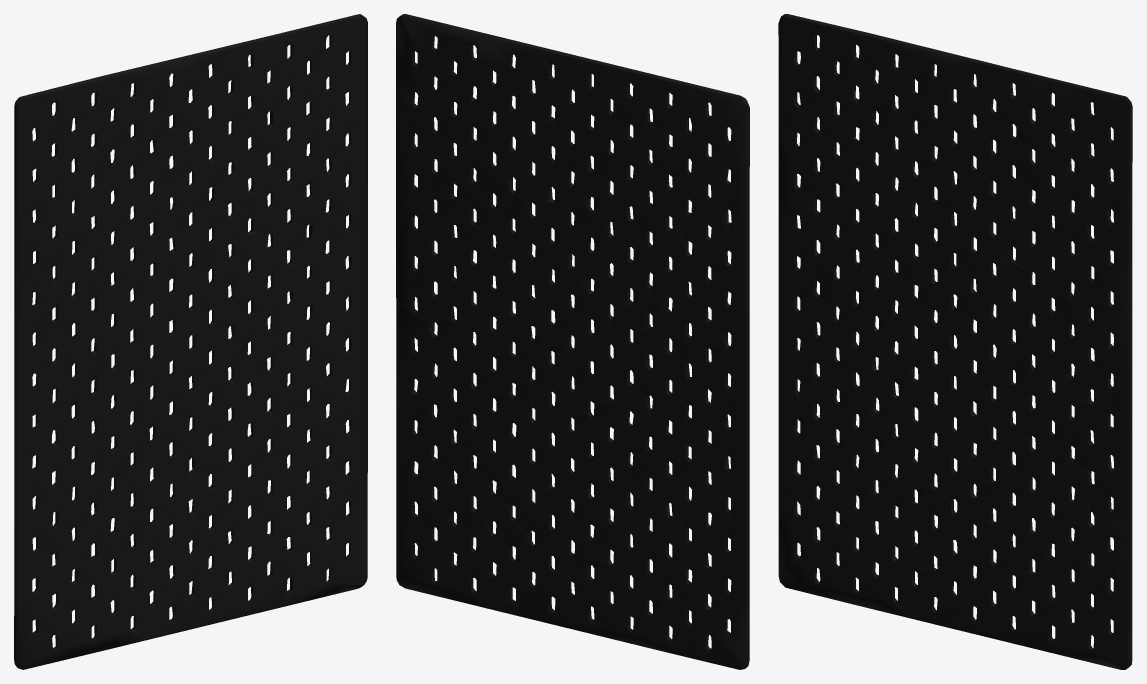
The model's file is SK_DIS_70347173.glb.
3 renders of one model, left to right at view 1: azimuth 30°, elevation 25°; view 2: azimuth 150°, elevation 25°; view 3: azimuth 330°, elevation 25°, orthographic.
Parts seen in each view (by area): view 1: ProcessedMeshNode; view 2: ProcessedMeshNode; view 3: ProcessedMeshNode.
Part boxes in pixels (x1,y1,x2,y2): ProcessedMeshNode: (14,14,367,669); ProcessedMeshNode: (396,14,749,669); ProcessedMeshNode: (778,14,1132,669).
Size of the model in its own units: 0.36 by 0.56 by 0.00568.
Materials: 1 (1 with a texture image).
